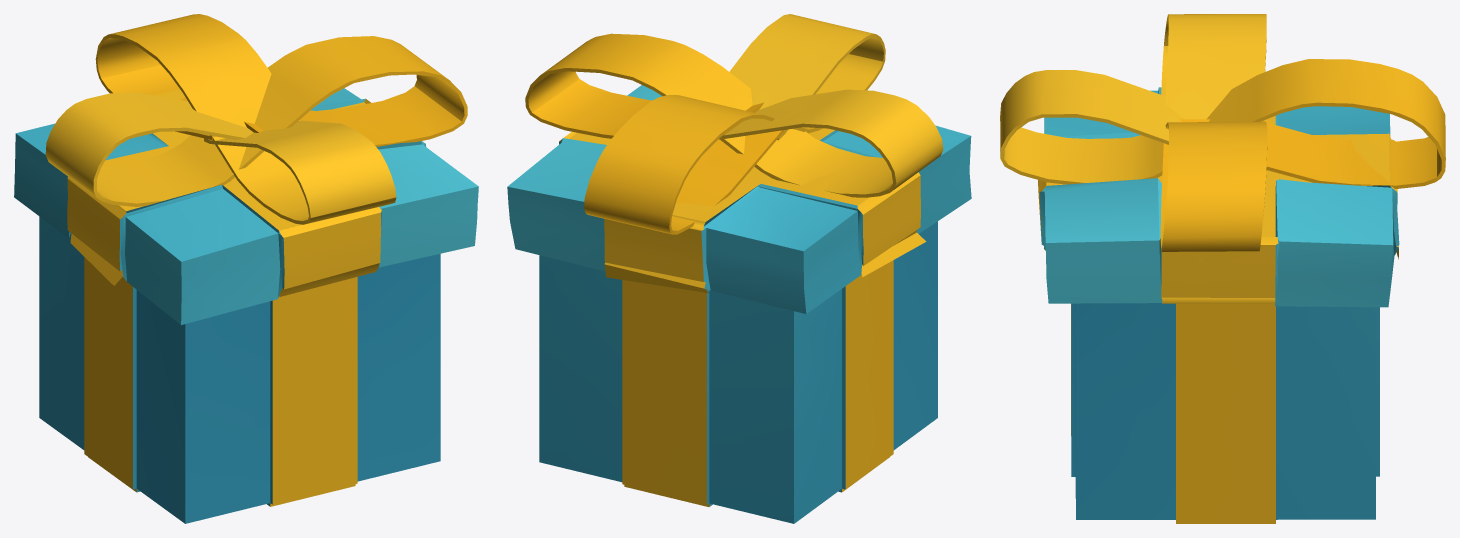
Rendered from GiftBox5.fbx.
3 renders of one model, left to right at view 1: azimuth 30°, elevation 25°; view 2: azimuth 150°, elevation 25°; view 3: azimuth 270°, elevation 25°, orthographic. The views are drawn at different scales.
Visible parts, largest first — view 1: Christmas Gift; view 2: Christmas Gift; view 3: Christmas Gift.
Boxes of the visible parts, x1=… form: Christmas Gift: x1=14, y1=14, x2=478, y2=523; Christmas Gift: x1=507, y1=14, x2=971, y2=523; Christmas Gift: x1=1000, y1=14, x2=1445, y2=523.
Size of the model in its own units: 1306 by 1225 by 1306.
